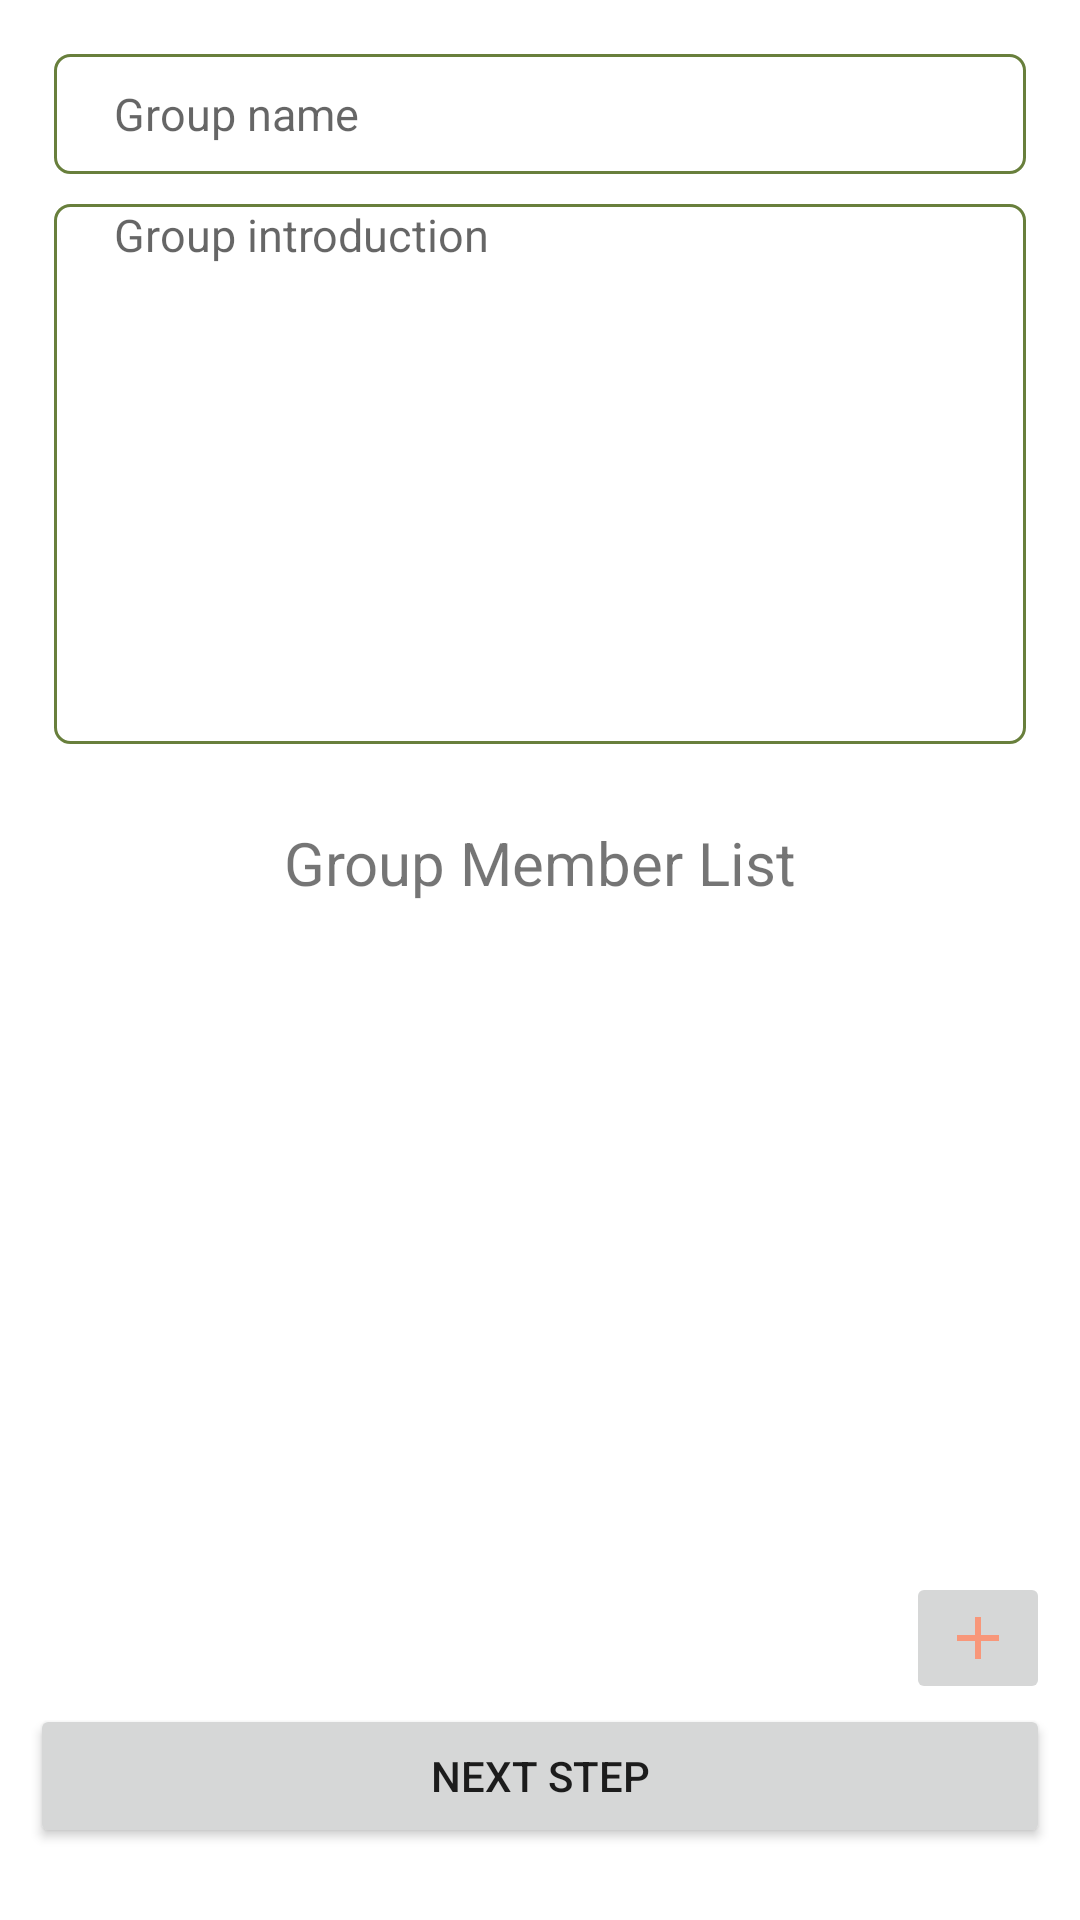

Where icons sit on this 1080 × 1920 app screen, as (x1, y1, x2, y2):
Add: (918, 1590, 1038, 1686)
